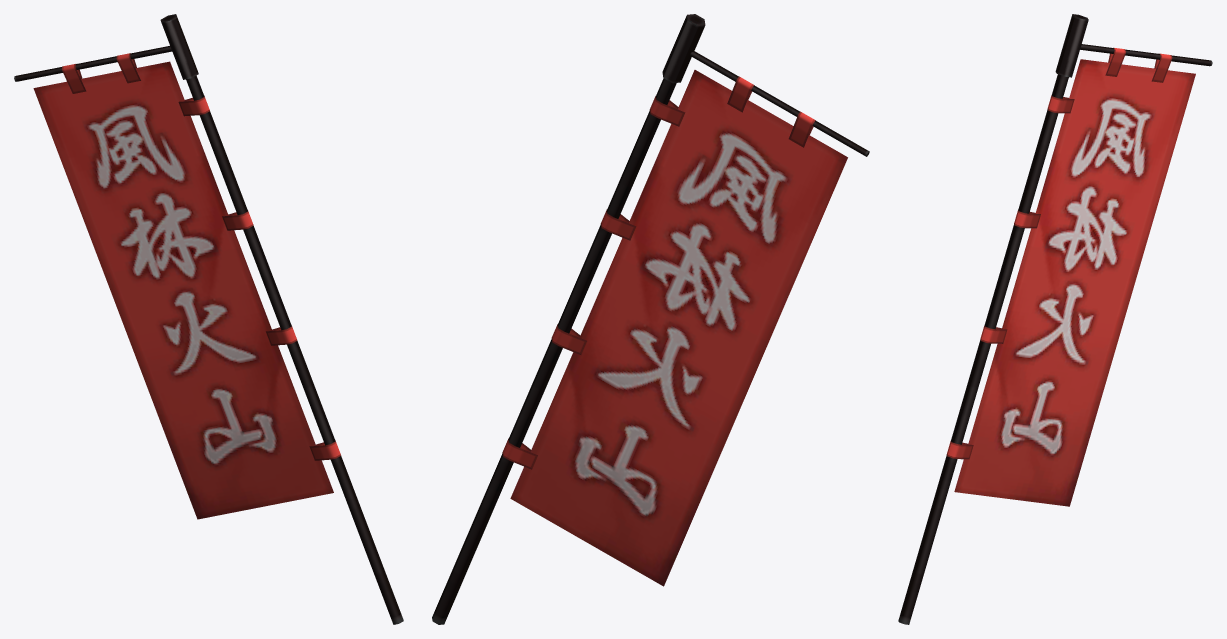
File: acc_back0032.fbx
3 views of the same model, side by side, from view 1: azimuth 30°, elevation 25°; view 2: azimuth 210°, elevation 25°; view 3: azimuth 270°, elevation 25° (orthographic). The views are drawn at different scales.
Parts seen in each view (by area): view 1: acc_back0032_m; view 2: acc_back0032_m; view 3: acc_back0032_m.
Part boxes in pixels (bbox=[...]): acc_back0032_m: bbox=[14, 14, 403, 624]; acc_back0032_m: bbox=[432, 14, 869, 624]; acc_back0032_m: bbox=[898, 14, 1212, 624].
Size of the model in its own units: 0.4124 by 0.9879 by 0.5143.
